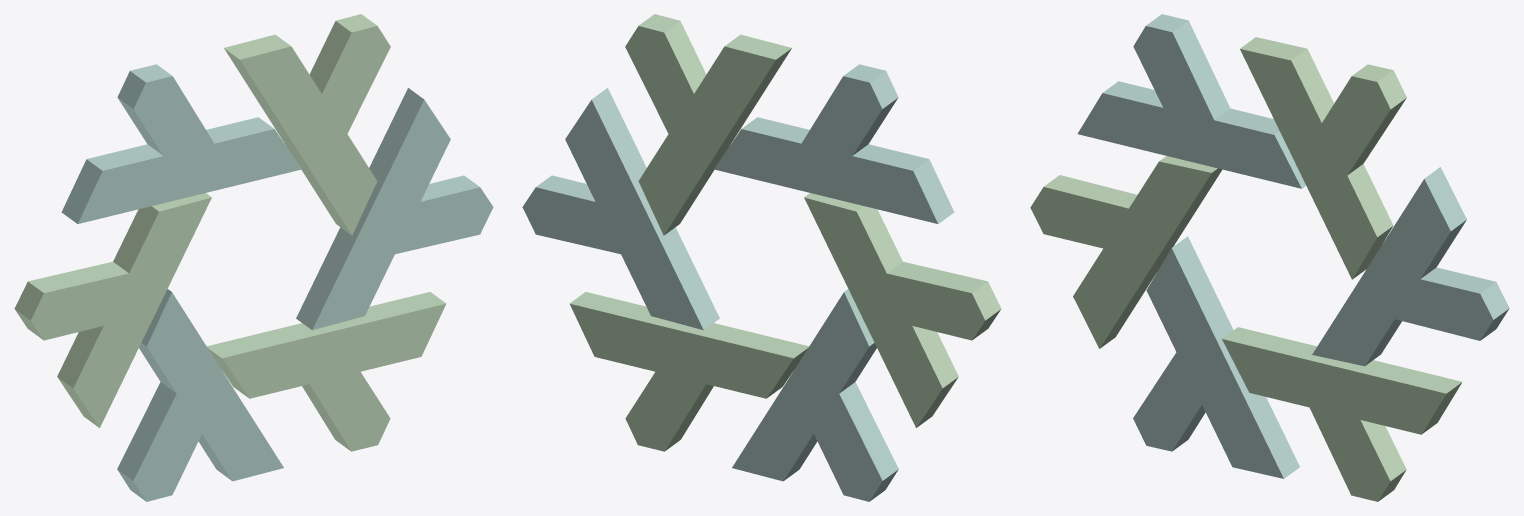
The model's file is nixos_3d_icon.glb.
3 views of the same model, side by side, from view 1: azimuth 30°, elevation 25°; view 2: azimuth 150°, elevation 25°; view 3: azimuth 330°, elevation 25° (orthographic).
Parts seen in each view (by area): view 1: Nix_Island_06, Nix_Island_03, Nix_Island_01, Nix_Island_02, Nix_Island_04, Nix_Island_05; view 2: Nix_Island_06, Nix_Island_03, Nix_Island_01, Nix_Island_02, Nix_Island_04, Nix_Island_05; view 3: Nix_Island_02, Nix_Island_04, Nix_Island_05, Nix_Island_01, Nix_Island_03, Nix_Island_06.
Part boxes in pixels (x1,y1,x2,y2): Nix_Island_06: (14,193,211,427); Nix_Island_03: (296,88,493,330); Nix_Island_01: (61,64,301,223); Nix_Island_02: (224,14,390,235); Nix_Island_04: (207,292,446,451); Nix_Island_05: (117,289,283,501); Nix_Island_06: (804,193,1001,427); Nix_Island_03: (522,88,719,330); Nix_Island_01: (714,64,954,223); Nix_Island_02: (625,14,791,235); Nix_Island_04: (569,292,808,451); Nix_Island_05: (732,289,898,501); Nix_Island_02: (1240,37,1406,279); Nix_Island_04: (1222,327,1462,501); Nix_Island_05: (1133,236,1299,478); Nix_Island_01: (1077,14,1306,188); Nix_Island_03: (1312,167,1509,366); Nix_Island_06: (1030,156,1222,348).
Bounding box in the file's own units: 7.92 × 6.88 × 0.48.
